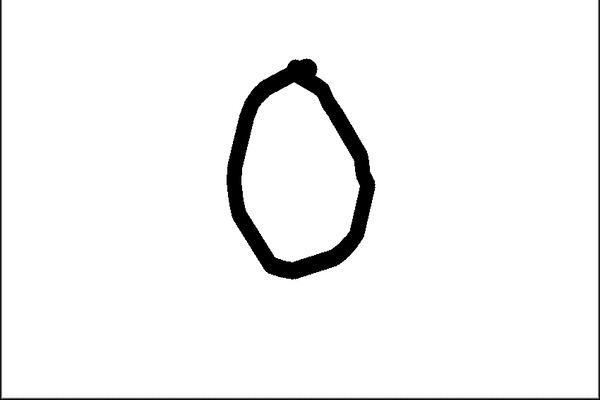O: (211, 50, 384, 326)
